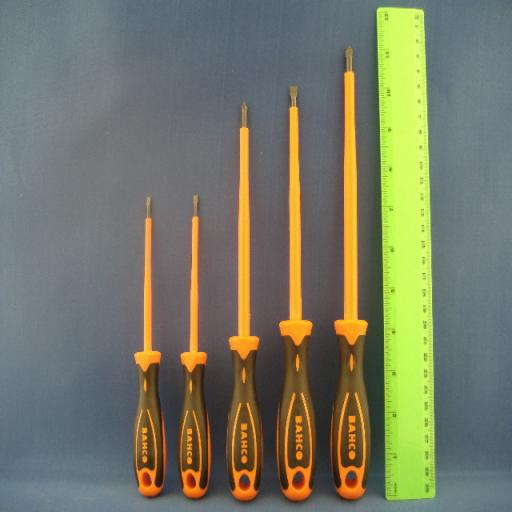screwdriver: (329, 46, 373, 501), (276, 86, 317, 503), (227, 100, 264, 503), (134, 196, 167, 498), (180, 195, 212, 498)
